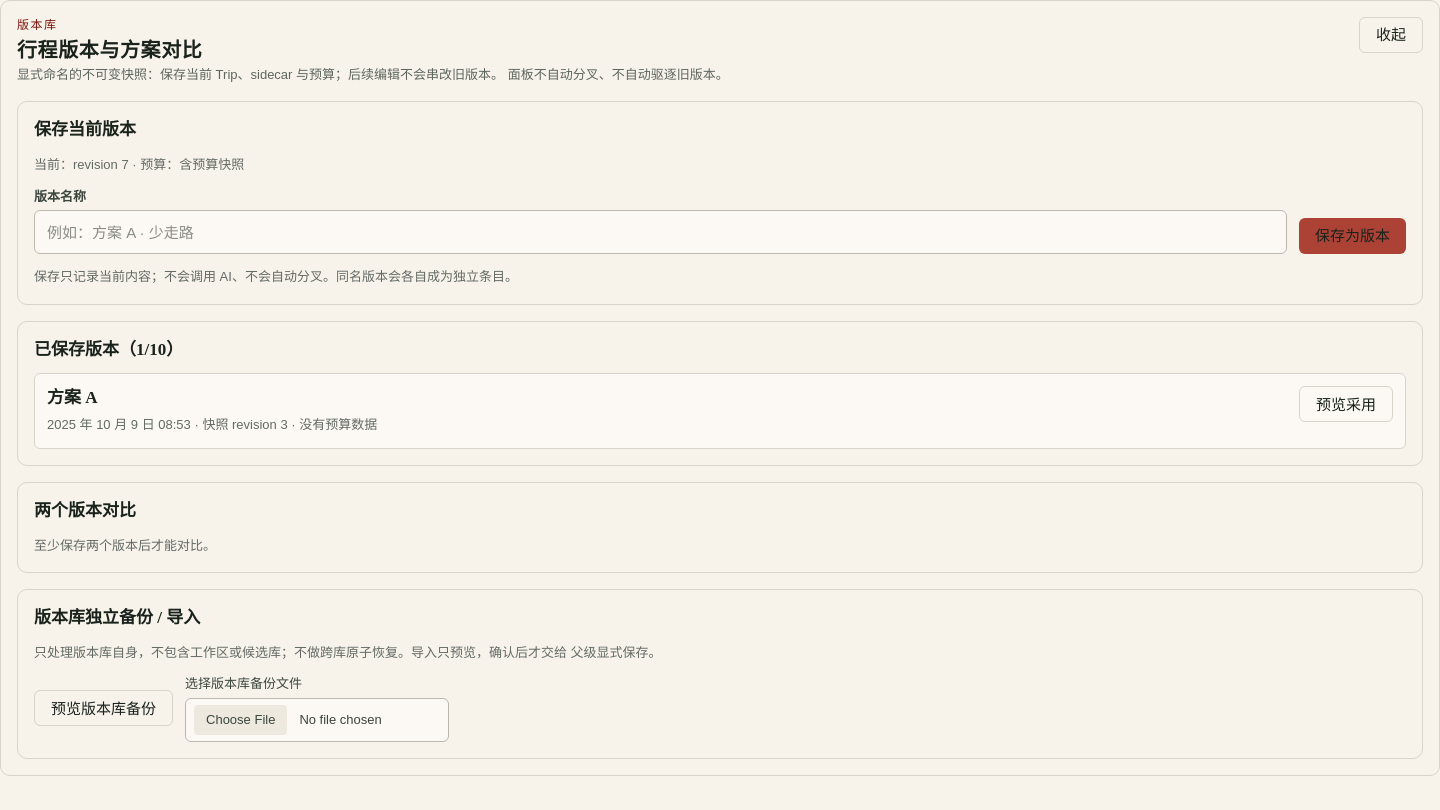
Test: VersionsPanel：受控挂载与保存 › 显式命名后才调用保存 callback；空名字只提示，不调用
Step 1. Type "  方案 A  " into the field labelled "版本名称" → (660,232), box [34,210,1287,254]
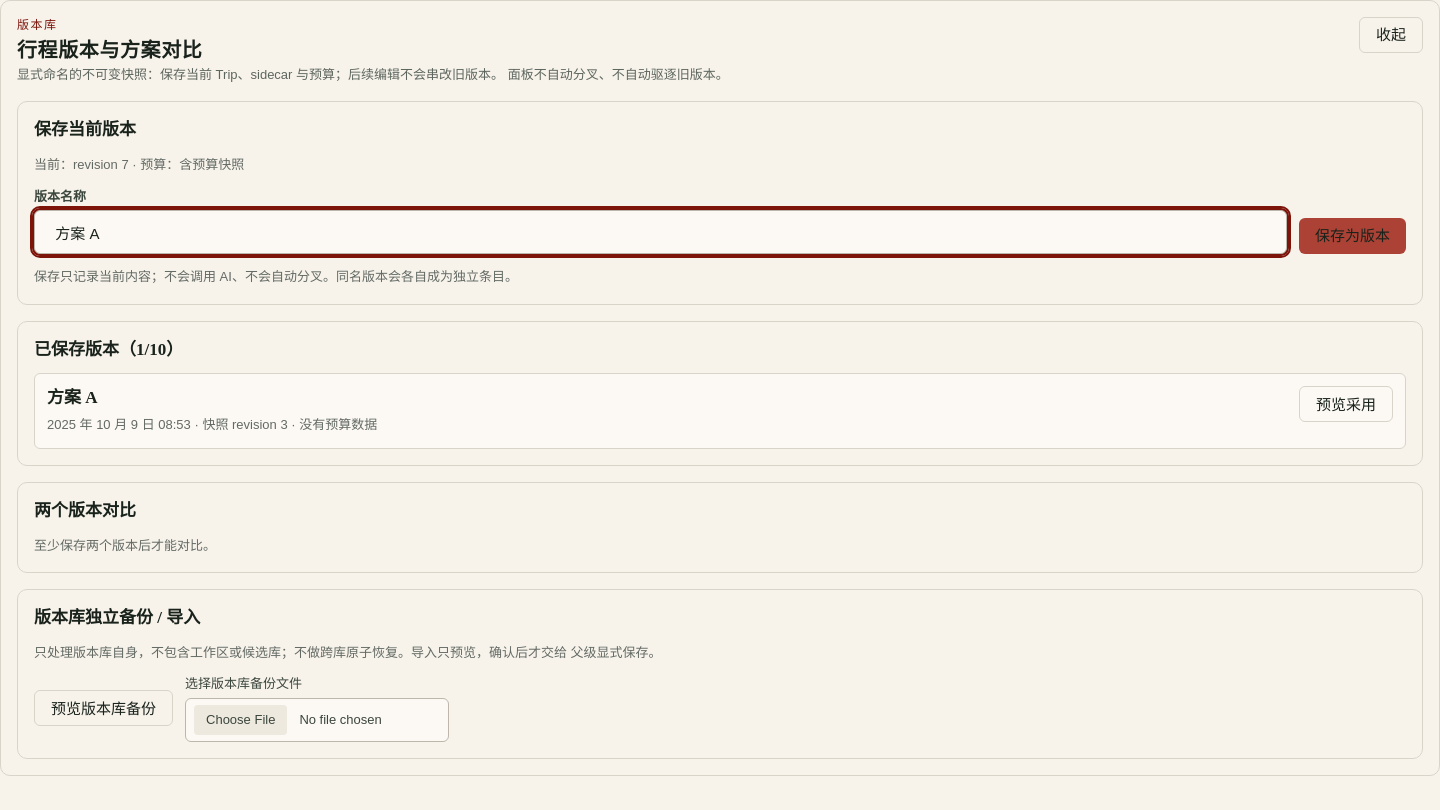
Step 2. Click the button "保存为版本" → (1352,236), box [1299,218,1406,254]
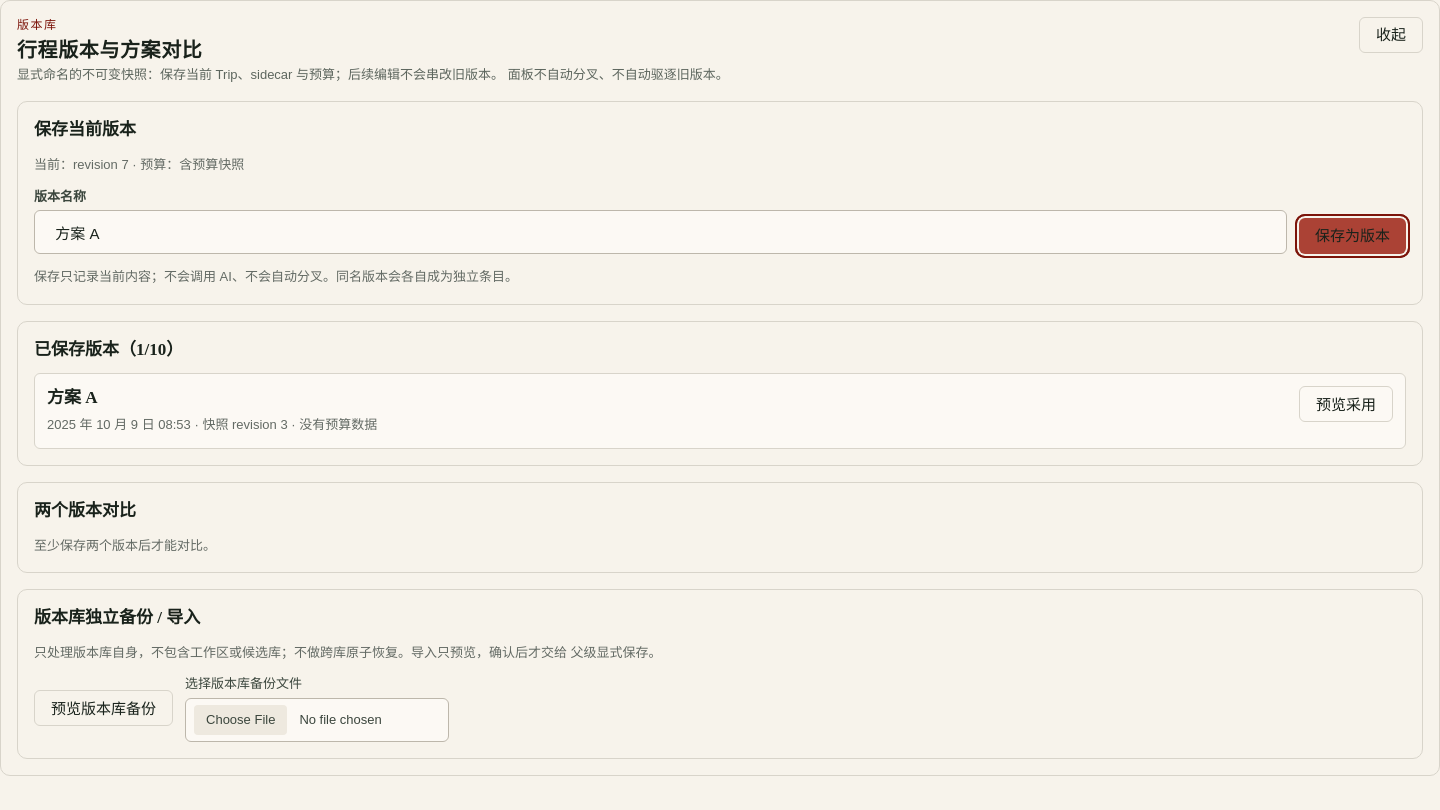
Step 3. Clear the field labelled "版本名称" → (660,232), box [34,210,1287,254]
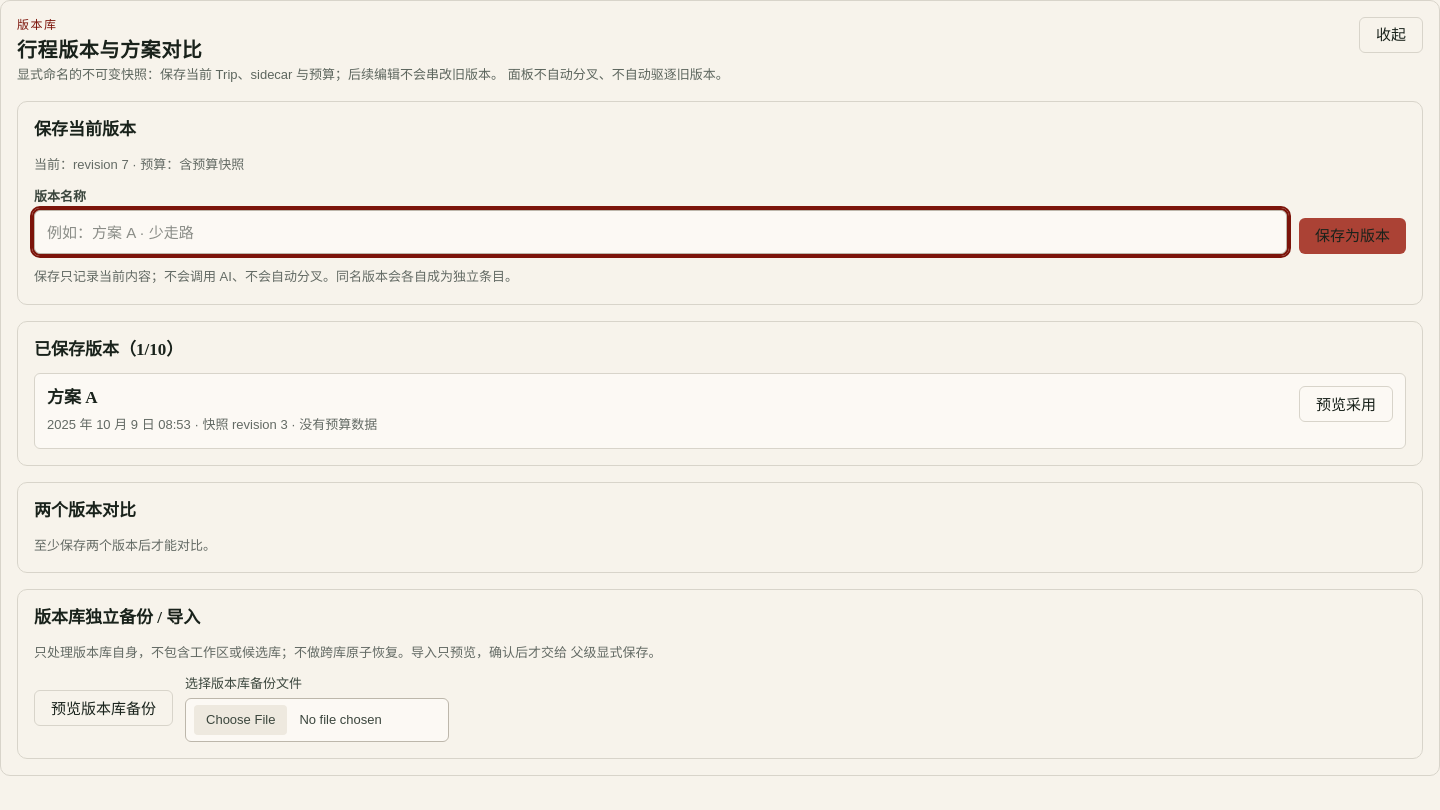
Step 4. Click the button "保存为版本" → (1352,236), box [1299,218,1406,254]
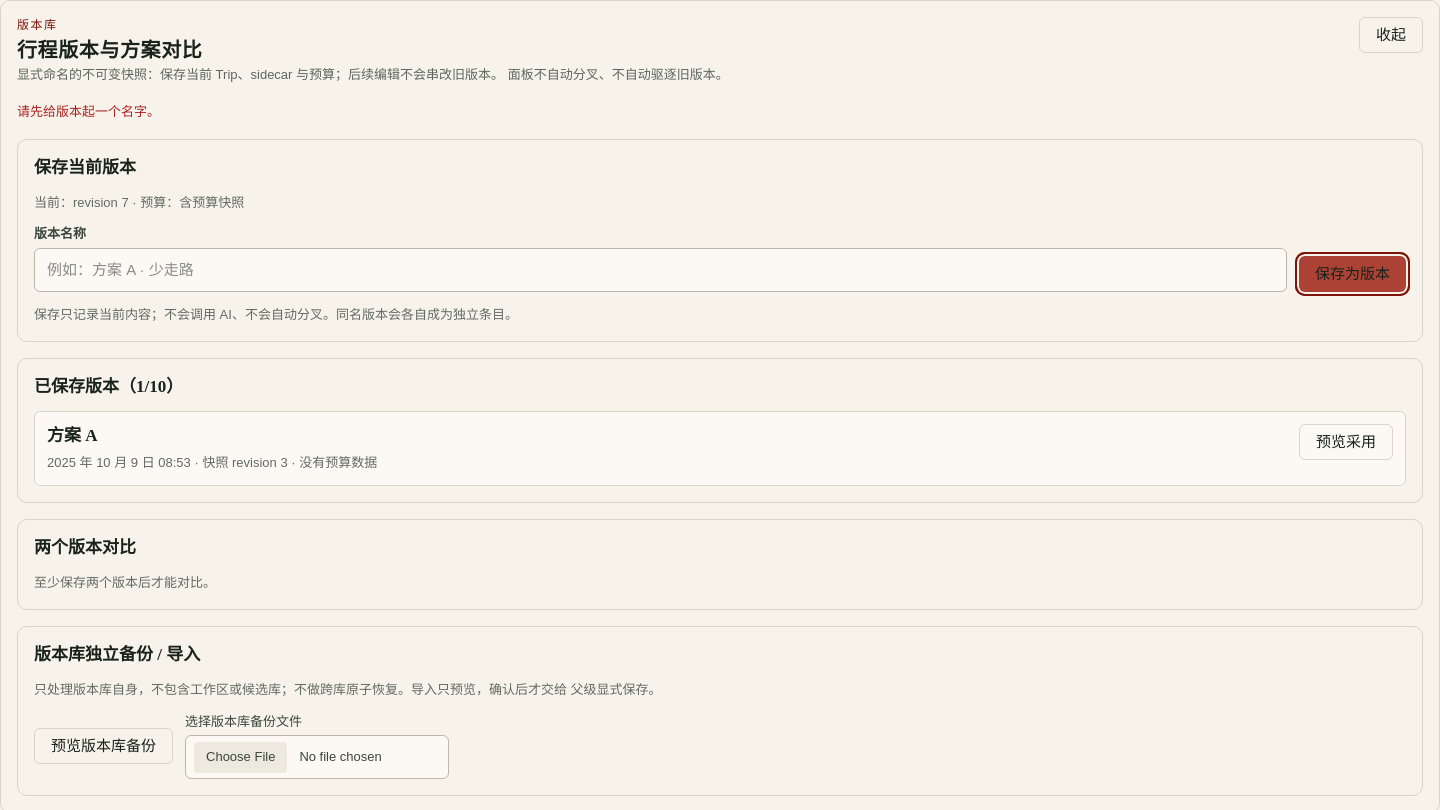
Check: the text "请先给版本起一个名字。" is shown, box [17,104,160,119]
